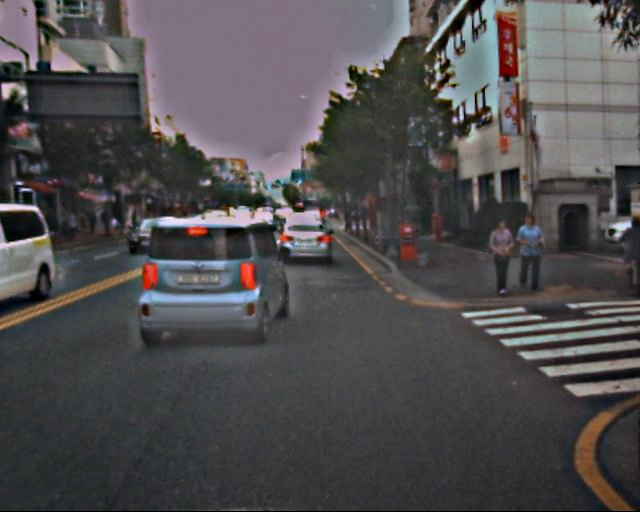person: (512, 214, 544, 292), (486, 219, 518, 296), (618, 218, 640, 288)
